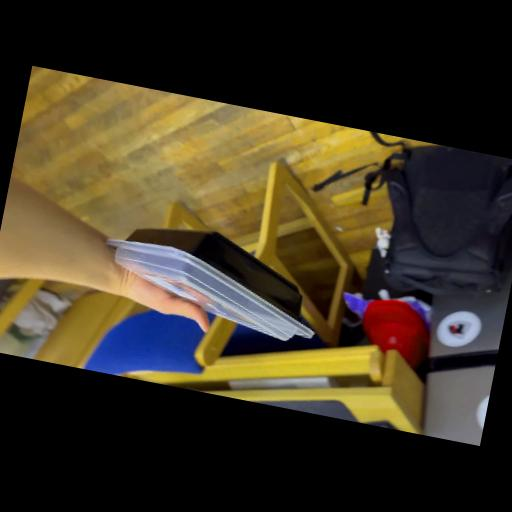rigid_plastic_container: (83, 210, 337, 378)
